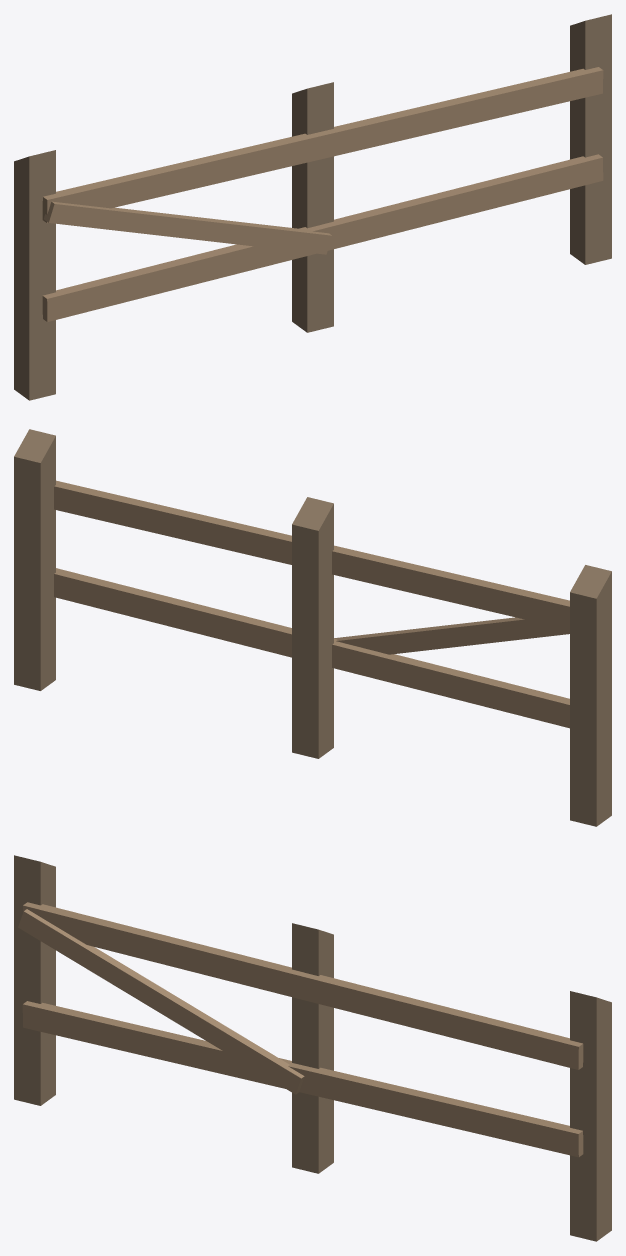
File: rail_fence_rail.glb
The picture shows the model from 3 angles, top to bottom: view 1: azimuth 30°, elevation 25°; view 2: azimuth 150°, elevation 25°; view 3: azimuth 330°, elevation 25°; orthographic projection.
Size of the model in its own units: 2.62 by 1.05 by 0.18.
